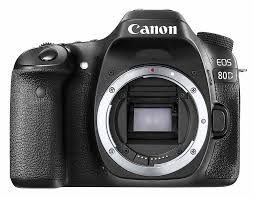camera: (11, 31, 240, 185)
